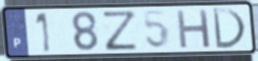1: (34, 11, 52, 53)
5: (142, 9, 173, 51)
8: (69, 10, 100, 53)
D: (210, 7, 248, 50)
H: (175, 8, 213, 51)
Z: (100, 9, 140, 53)
